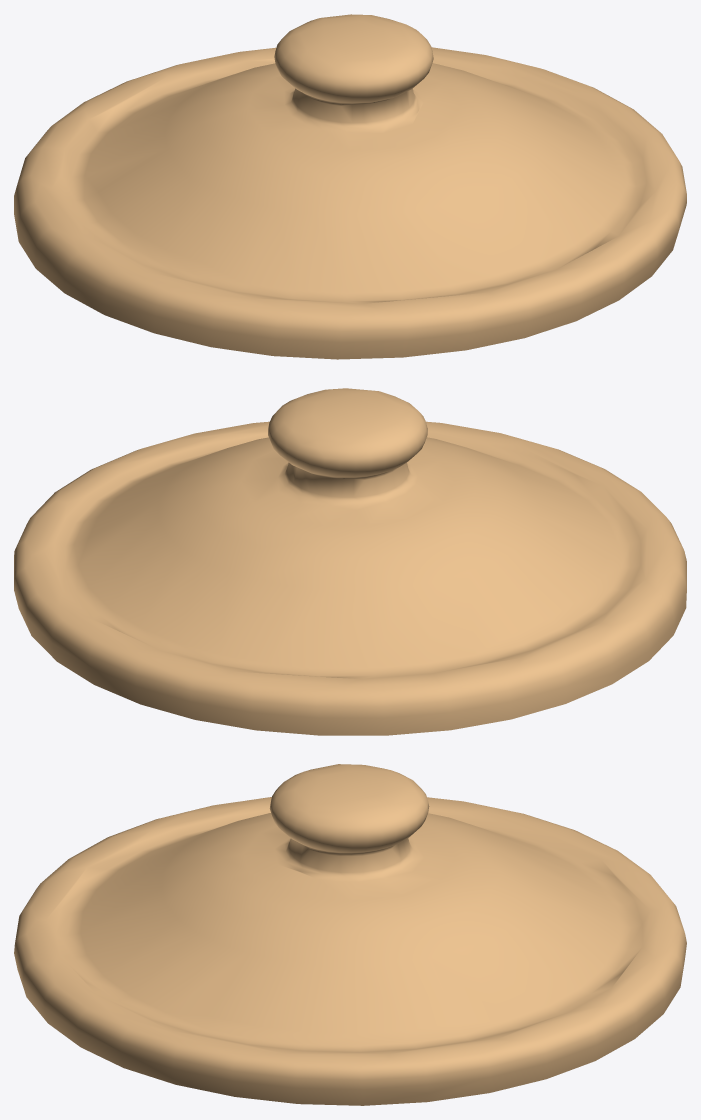
The model's file is Tapa_cazuela.fbx.
3 renders of one model, top to bottom at view 1: azimuth 30°, elevation 25°; view 2: azimuth 150°, elevation 25°; view 3: azimuth 270°, elevation 25°, orthographic.
Visible parts, largest first — view 1: Marco.007; view 2: Marco.007; view 3: Marco.007.
Part boxes in pixels (x1=…): Marco.007: x1=14, y1=14, x2=686, y2=359; Marco.007: x1=14, y1=388, x2=686, y2=735; Marco.007: x1=14, y1=764, x2=686, y2=1105.
Size of the model in its own units: 4.12 by 1.24 by 4.12.
